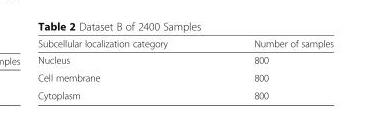table: (37, 37, 333, 100)
table column: (37, 37, 210, 100), (210, 37, 333, 100)
table column header: (37, 37, 333, 51)
table row: (37, 68, 333, 86), (37, 51, 333, 68), (37, 37, 333, 51), (37, 86, 333, 100)
